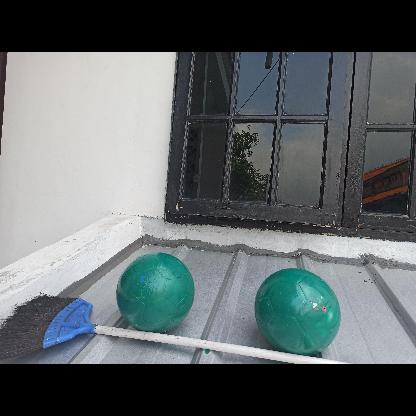green_ball: (254, 266, 344, 356), (116, 250, 198, 332)
